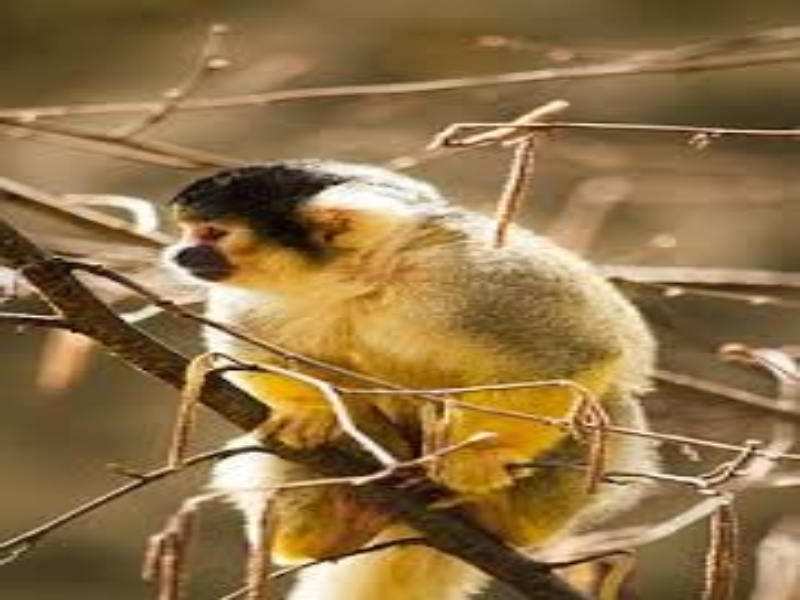monkey: (122, 149, 674, 580)
